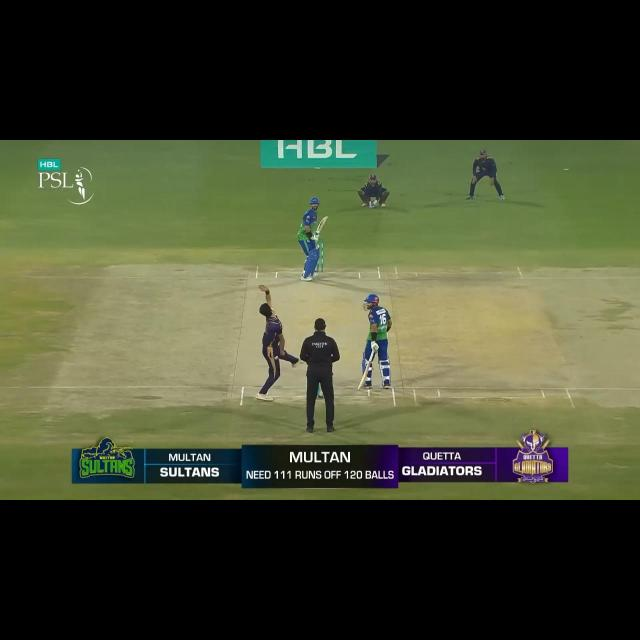bat: (356, 350, 376, 391), (316, 214, 328, 235)
toe: (321, 214, 328, 221), (356, 384, 363, 391)
